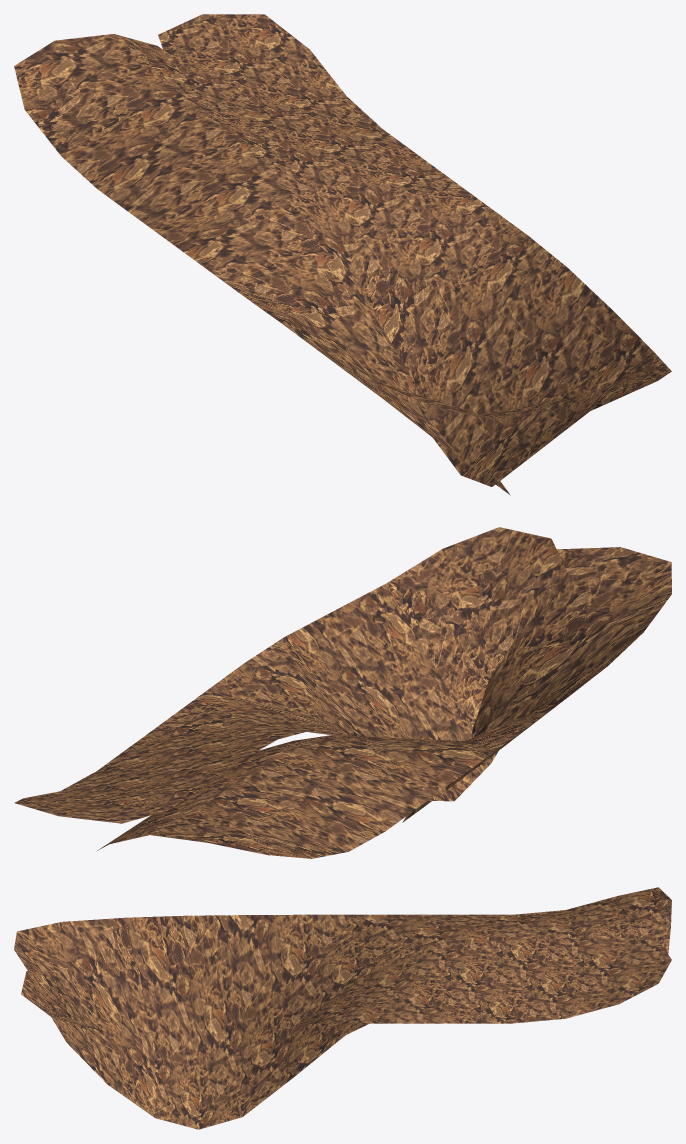
The model's file is hotChocolate.glb.
3 views of the same model, one above another, from view 1: azimuth 30°, elevation 25°; view 2: azimuth 150°, elevation 25°; view 3: azimuth 270°, elevation 25° (orthographic). The views are drawn at different scales.
Visible parts, largest first — view 1: stktex_generic_chocolateChunk_a.png__; view 2: stktex_generic_chocolateChunk_a.png__; view 3: stktex_generic_chocolateChunk_a.png__.
Boxes of the visible parts, x1,y1,x2,y2 form: stktex_generic_chocolateChunk_a.png__: (14, 14, 671, 495); stktex_generic_chocolateChunk_a.png__: (14, 527, 671, 858); stktex_generic_chocolateChunk_a.png__: (14, 887, 671, 1129).
Size of the model in its own units: 21.11 by 17.67 by 57.73.
Materials: 1 (1 with a texture image).
